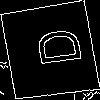D: (25, 25, 83, 70)
